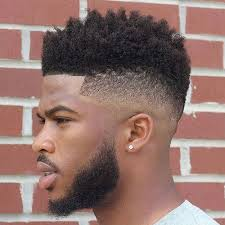black_male: (22, 16, 184, 218)
